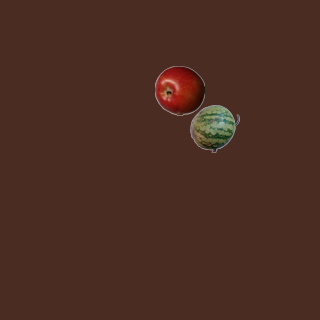Apple Braeburn: (154, 65, 204, 115)
Watermelon: (189, 103, 239, 153)
